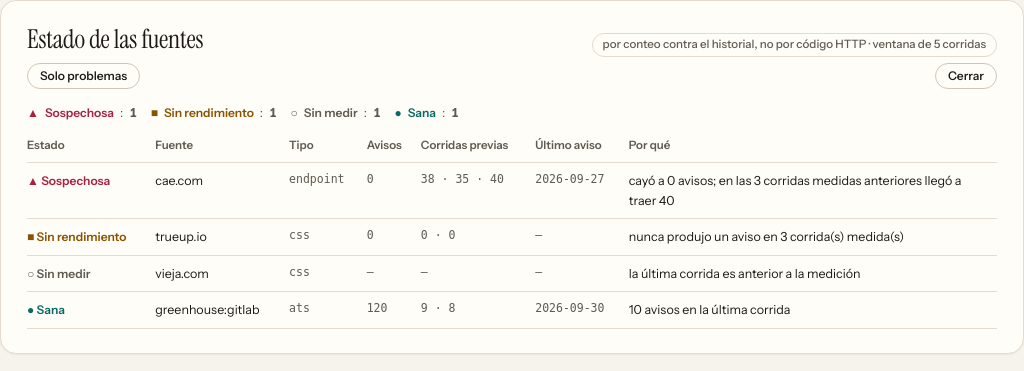
FuentesPanel › «Solo problemas» filtra de verdad y «Ver todas» lo revierte
Expected: the row with test id "fuente-cae.com" is shown, [27,163,997,219]
Click the button "Solo problemas": (84,76) [27,63,140,89]
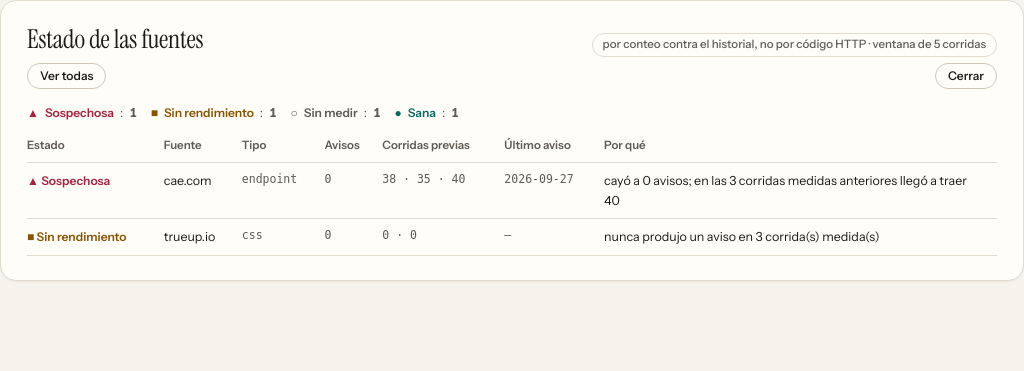
Expected: the row with test id "fuente-cae.com" is shown, [27,163,997,219]
Expected: the row with test id "fuente-trueup.io" is shown, [27,219,997,255]
Click the button "Ver todas": (67,76) [27,63,106,89]
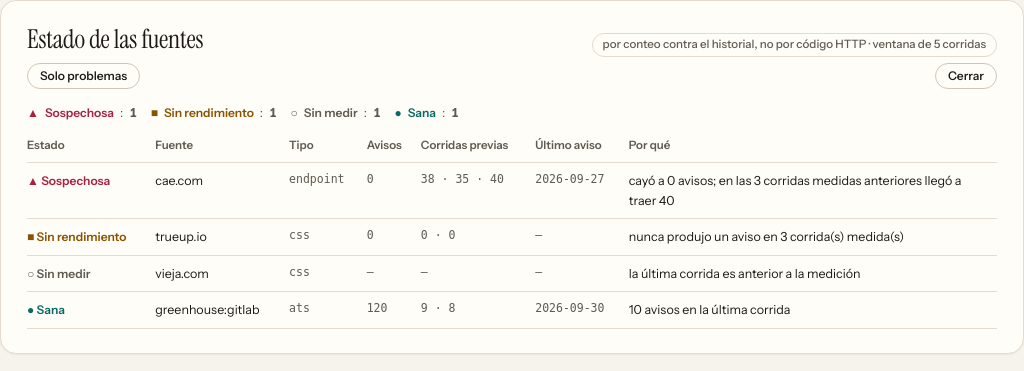
Expected: the row with test id "fuente-greenhouse:gitlab" is shown, [27,292,997,328]
